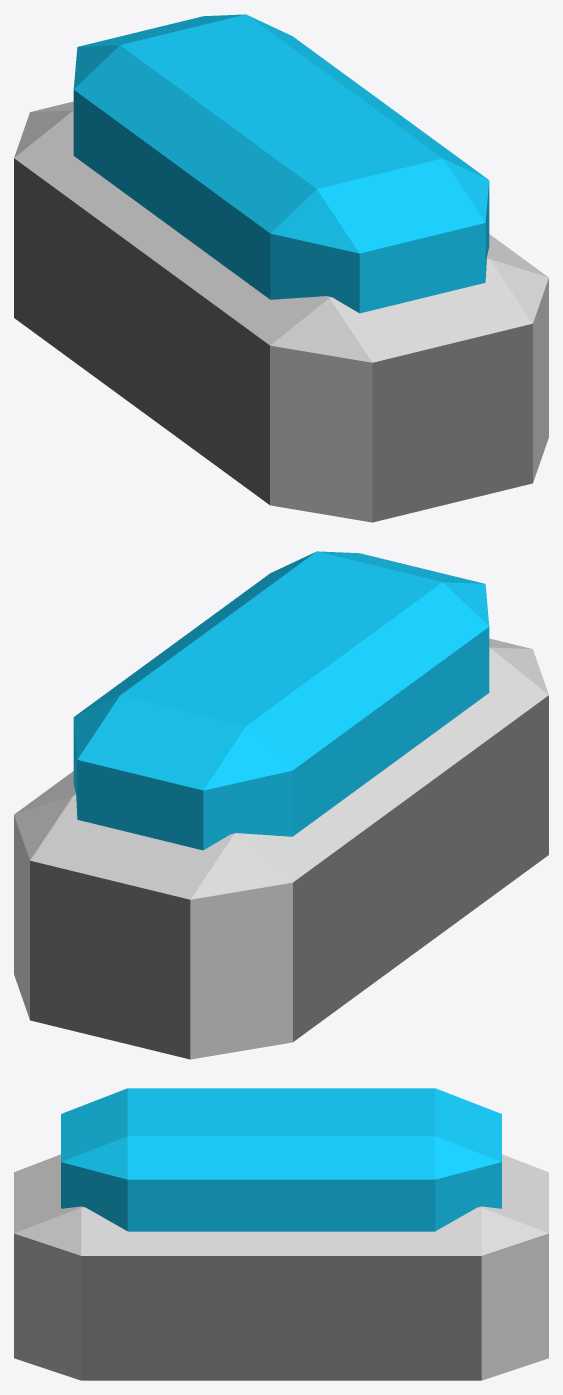
Rendered from FluorescentLight_Small.FBX.
3 renders of one model, top to bottom at view 1: azimuth 30°, elevation 25°; view 2: azimuth 150°, elevation 25°; view 3: azimuth 270°, elevation 25°, orthographic. The views are drawn at different scales.
Parts seen in each view (by area): view 1: FluorescentLight_Small; view 2: FluorescentLight_Small; view 3: FluorescentLight_Small.
Boxes of the visible parts, bbox=[...] form: FluorescentLight_Small: bbox=[14, 14, 548, 522]; FluorescentLight_Small: bbox=[14, 551, 548, 1059]; FluorescentLight_Small: bbox=[14, 1088, 548, 1380].
Size of the model in its own units: 4.65 by 4.4 by 9.9.
